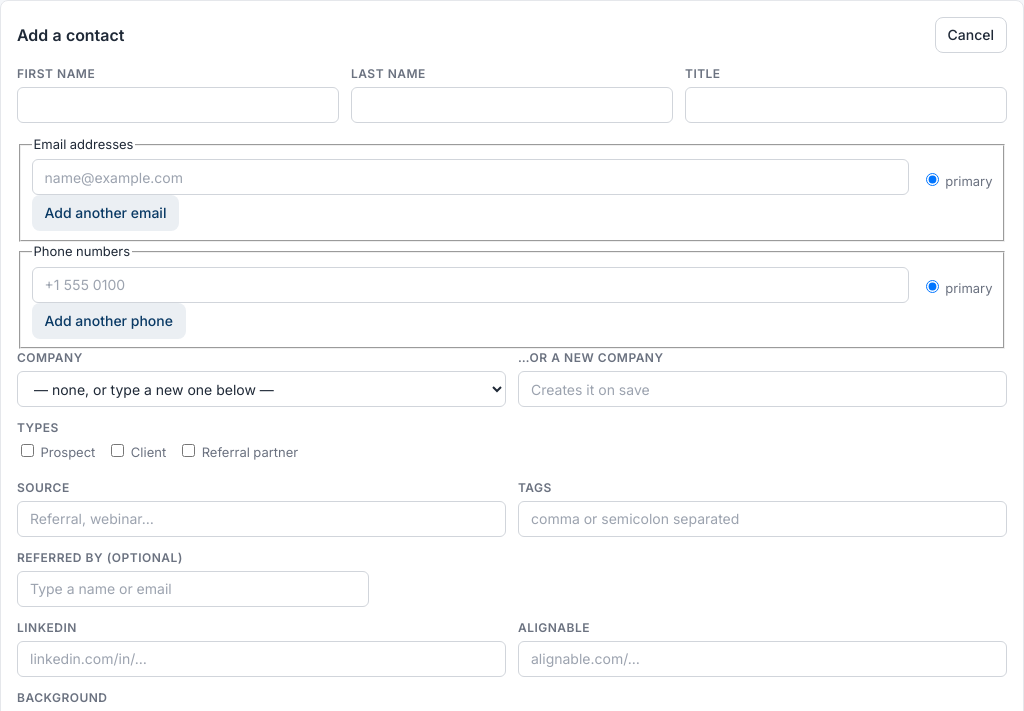
Test: AddContact › warns that a referral partner queues an onboarding email
Click the checkbox labelled "Referral partner" at [189, 451], box [182,444,195,457]
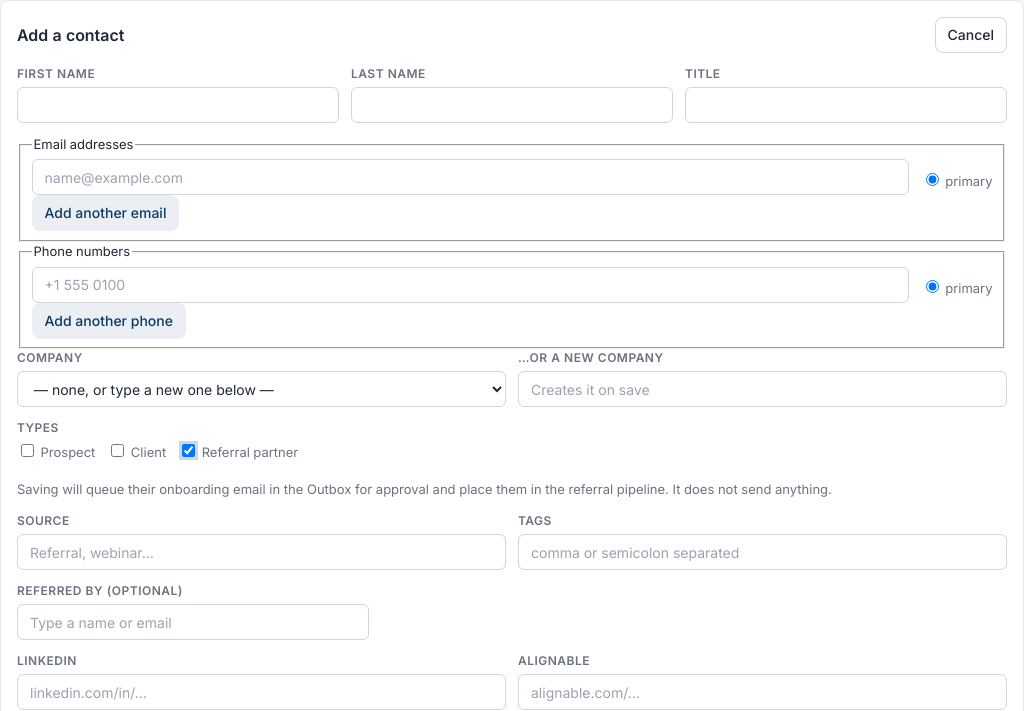
Check: the text "does not send anything" is shown, box [17,481,832,497]
